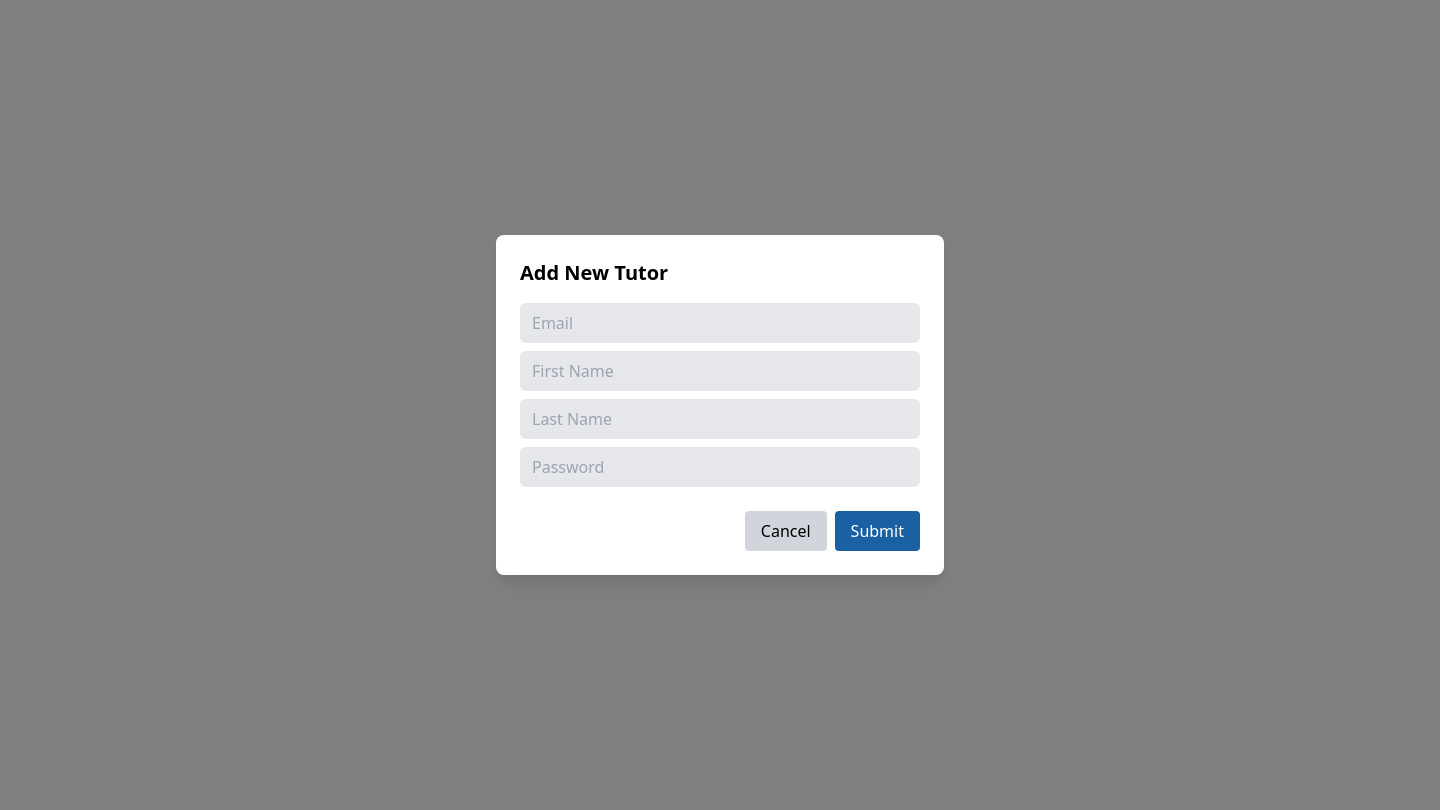
Test: CreateTutorModal › shows validation errors for empty required fields
Click the button "Submit" at point(877, 531), box x1=835 y1=511 x2=920 y2=551
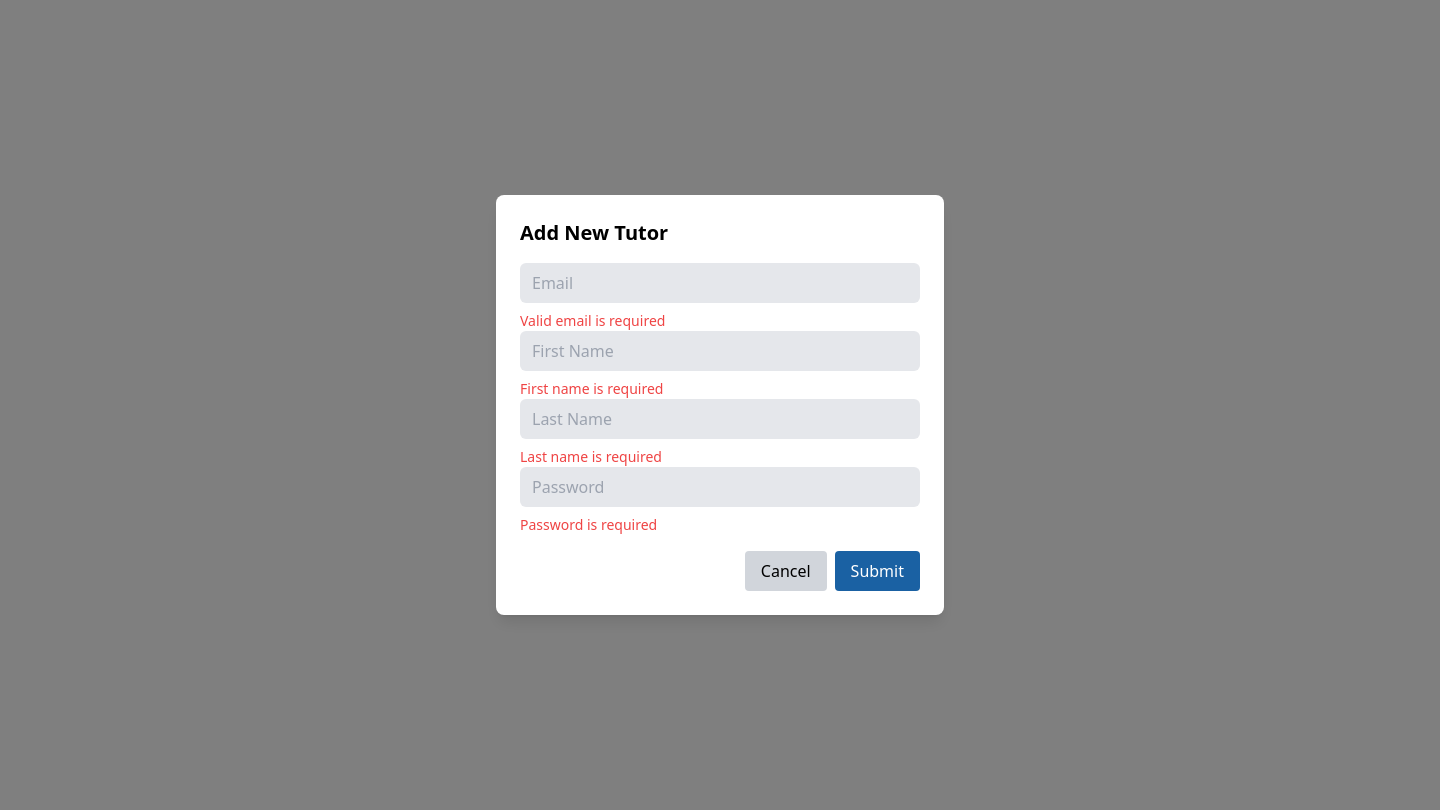
Check: the text "Valid email is required" is shown, box x1=520 y1=311 x2=665 y2=330
Check: the text "First name is required" is shown, box x1=520 y1=379 x2=663 y2=398
Check: the text "Last name is required" is shown, box x1=520 y1=447 x2=662 y2=466
